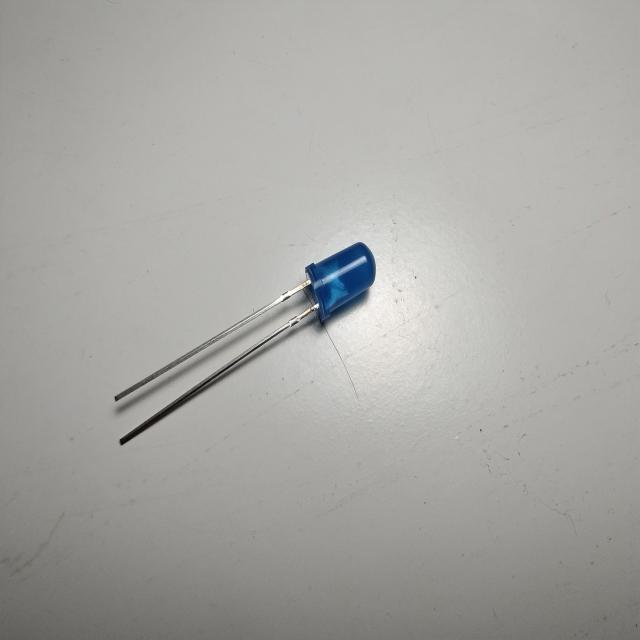blue_led: (106, 243, 381, 461)
